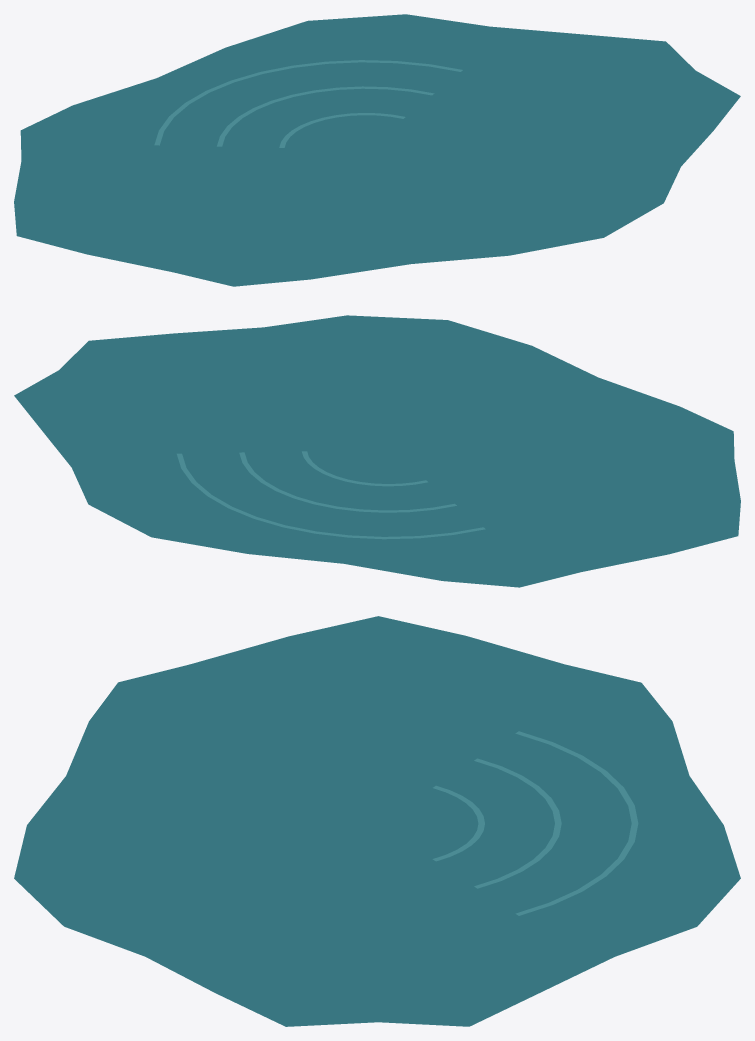
Rendered from water_pond_small.glb.
The picture shows the model from 3 angles, top to bottom: view 1: azimuth 30°, elevation 25°; view 2: azimuth 150°, elevation 25°; view 3: azimuth 270°, elevation 25°; orthographic projection. The views are drawn at different scales.
Parts seen in each view (by area): view 1: water_surface, ripples_2, ripples_1, ripples_0; view 2: water_surface, ripples_2, ripples_1, ripples_0; view 3: water_surface, ripples_2, ripples_1.
Part boxes in pixels (left/top/right/bottom): water_surface: left=14, top=14, right=740, bottom=286; ripples_2: left=154, top=60, right=462, bottom=145; ripples_1: left=217, top=86, right=434, bottom=146; ripples_0: left=279, top=113, right=405, bottom=147; water_surface: left=14, top=315, right=740, bottom=587; ripples_2: left=177, top=453, right=485, bottom=539; ripples_1: left=239, top=452, right=456, bottom=512; ripples_0: left=302, top=451, right=427, bottom=486; water_surface: left=14, top=616, right=740, bottom=1026; ripples_2: left=515, top=731, right=638, bottom=915; ripples_1: left=474, top=758, right=561, bottom=888.
Bounding box in the file's own units: 2.92 × 0.005 × 2.18.
